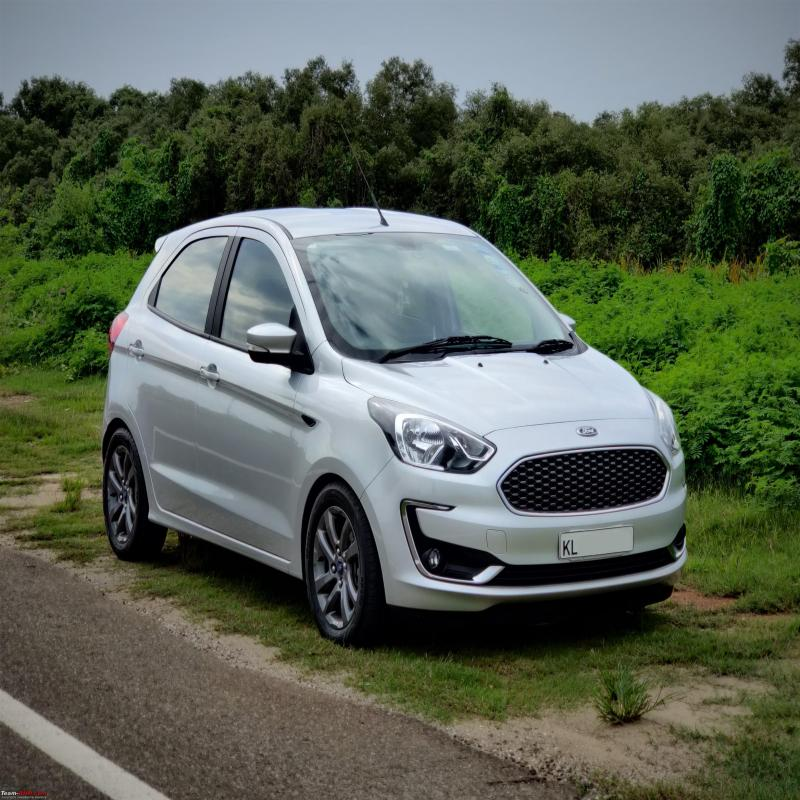car: (101, 164, 727, 616)
